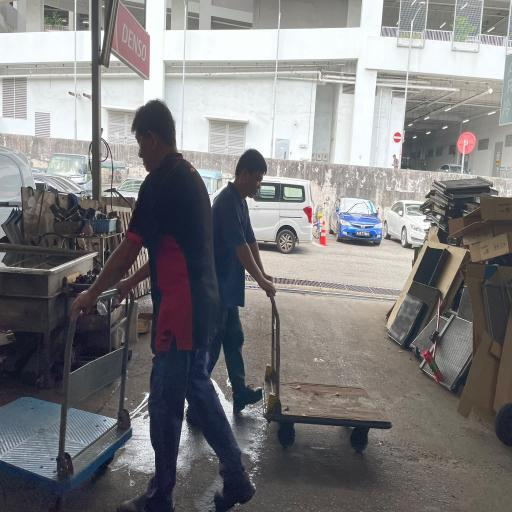person_left: (0, 95, 223, 511)
person_right: (203, 102, 408, 459)
